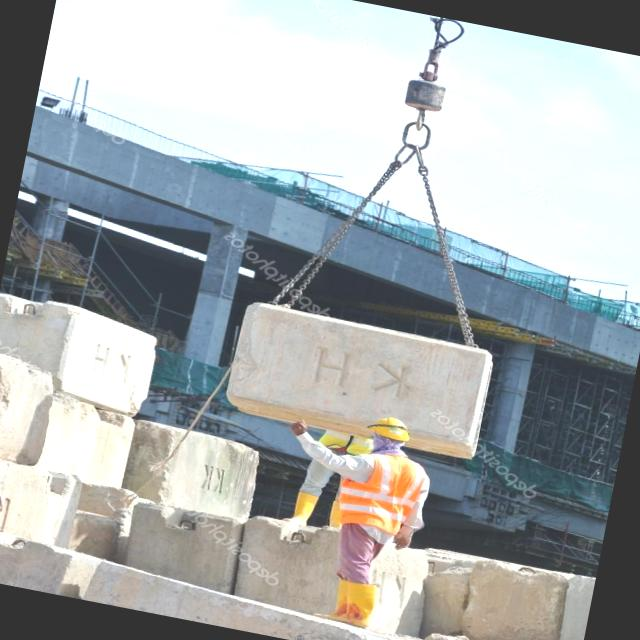vest: (325, 438, 432, 540)
